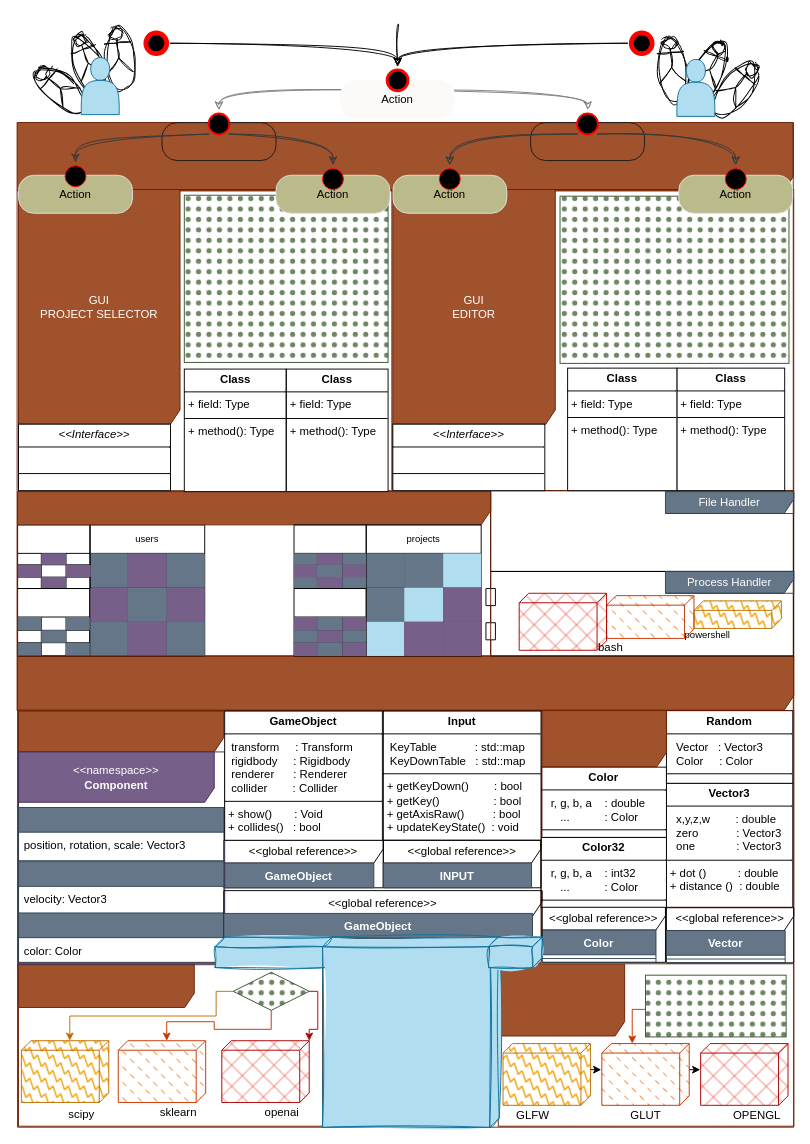
Image size: 810x1144. Some labels were removed from this diagram. Each missing label, with the box of its shape:
<<namespace>> Game Engine: (18, 710, 541, 963)
<<namespace>> Machine Learning Engine: (18, 963, 323, 1126)
<<namespace>> Mathematics Framework: (541, 710, 794, 907)
<<namespace>> Render Engine: (497, 963, 794, 1126)
apple: (693, 600, 781, 628)
Backend Layer: (17, 655, 794, 1127)
Database Layer: (17, 491, 491, 656)
Frontend Layer: (16, 122, 793, 711)
Renderer: (18, 912, 224, 962)
Rigidbody: (18, 861, 224, 919)
Transform: (18, 807, 224, 864)
